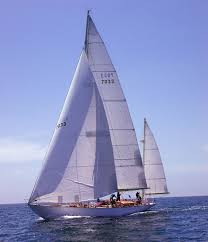boat: (29, 10, 169, 221)
